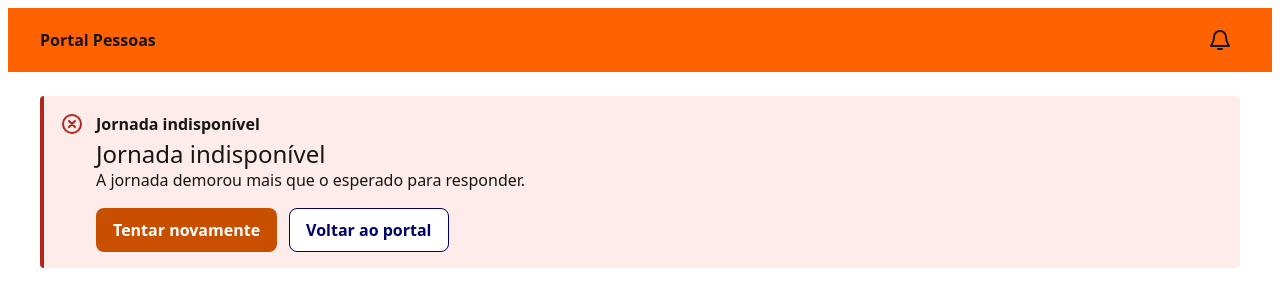
Test case: App › retries only the selected federated journey
Expected: the text "A jornada demorou mais que o esperado para responder." is shown, [96,168,525,192]
Click the button "Tentar novamente". click: (187, 230)
box: [96,208,277,252]
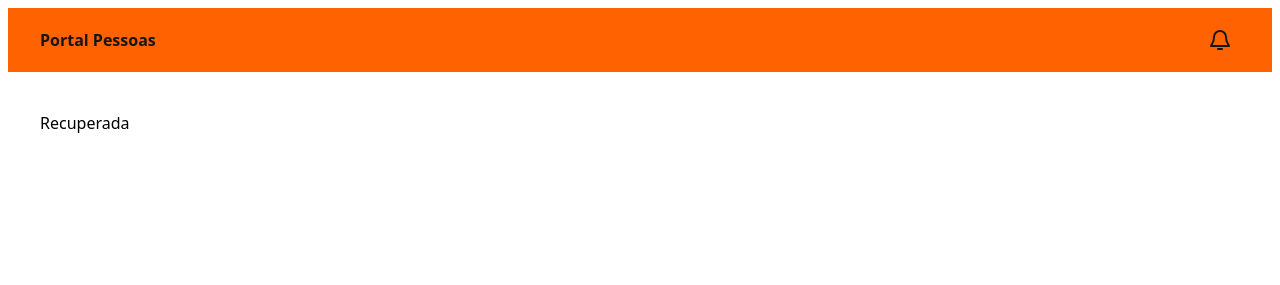
Now the text "Recuperada" is shown, box [40,112,130,134]
